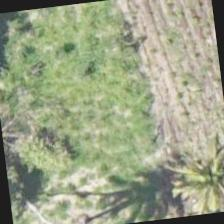Kelapa_Sawit: (167, 122, 223, 216)
